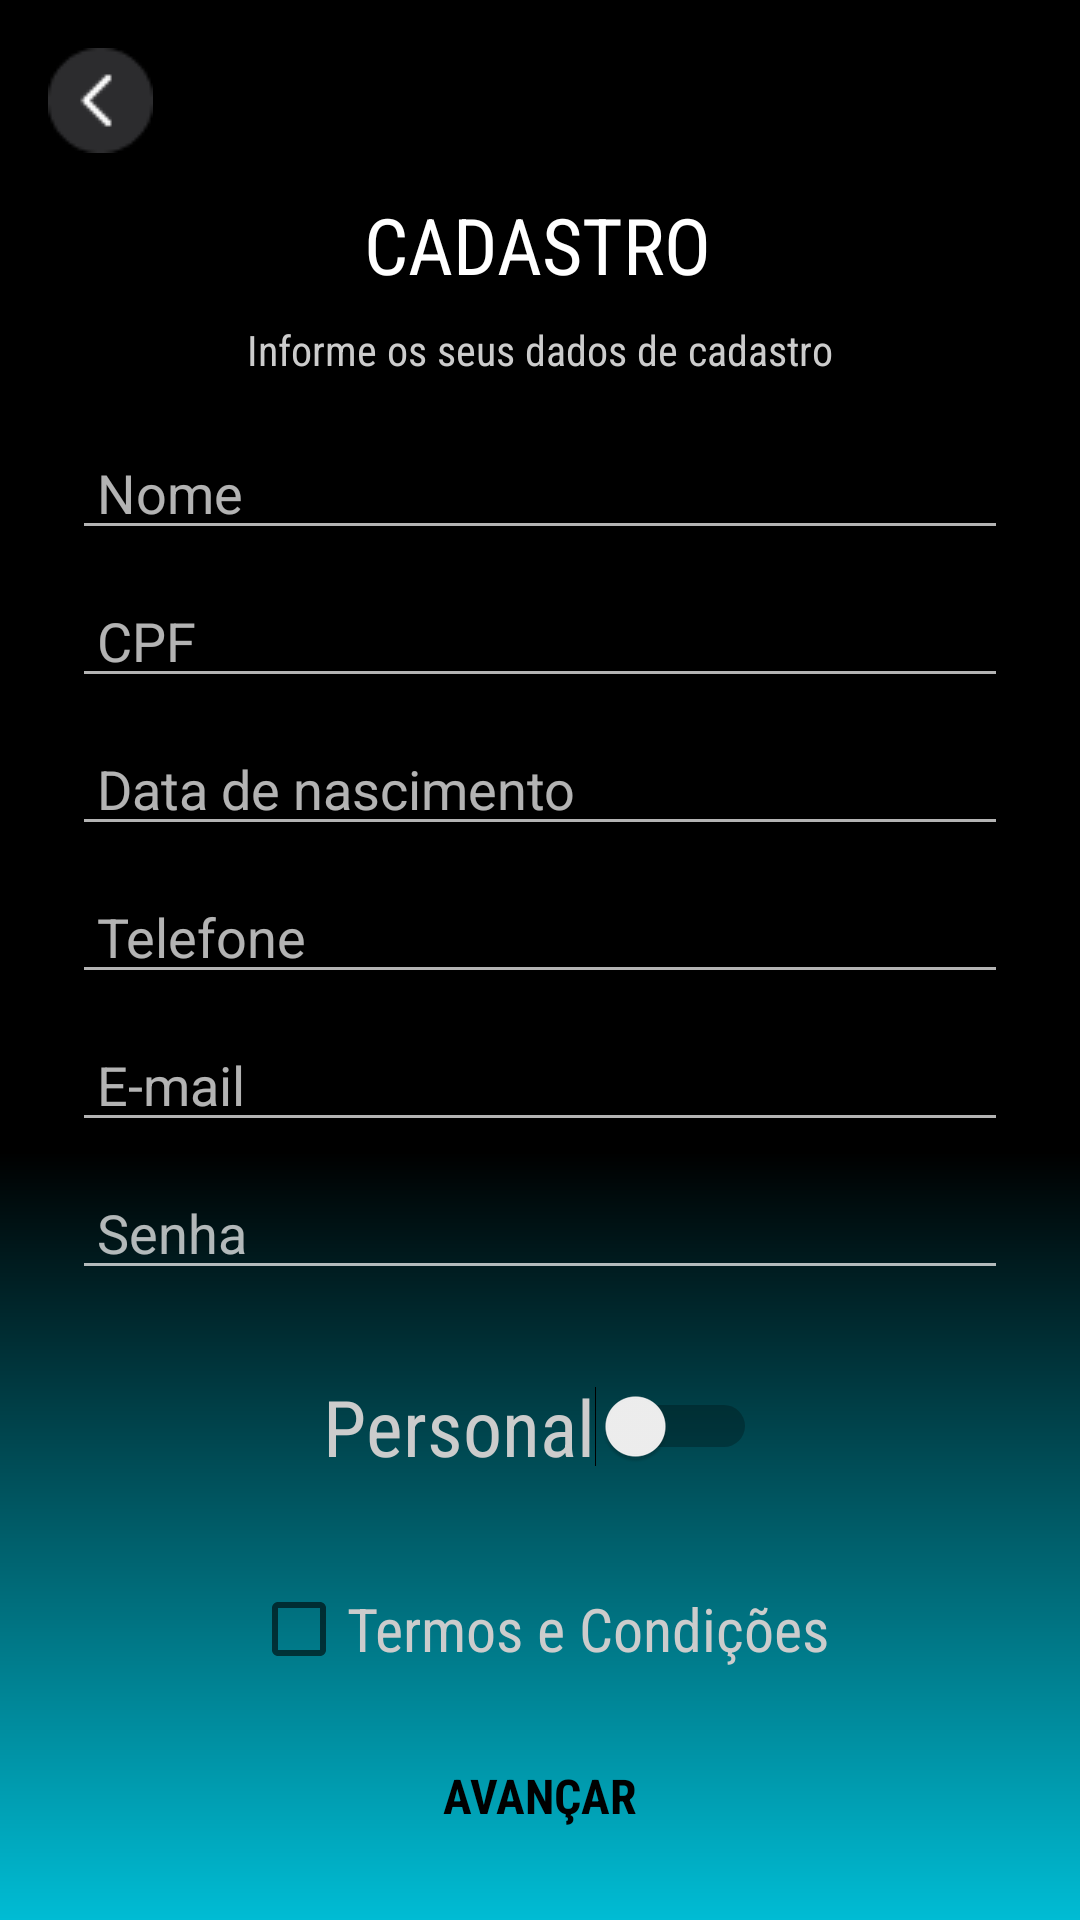

Icon bounding boxes for this 1080*1920 phone screenshot, format (x1, y1, x2, y2):
circle left: (48, 48, 153, 153)
